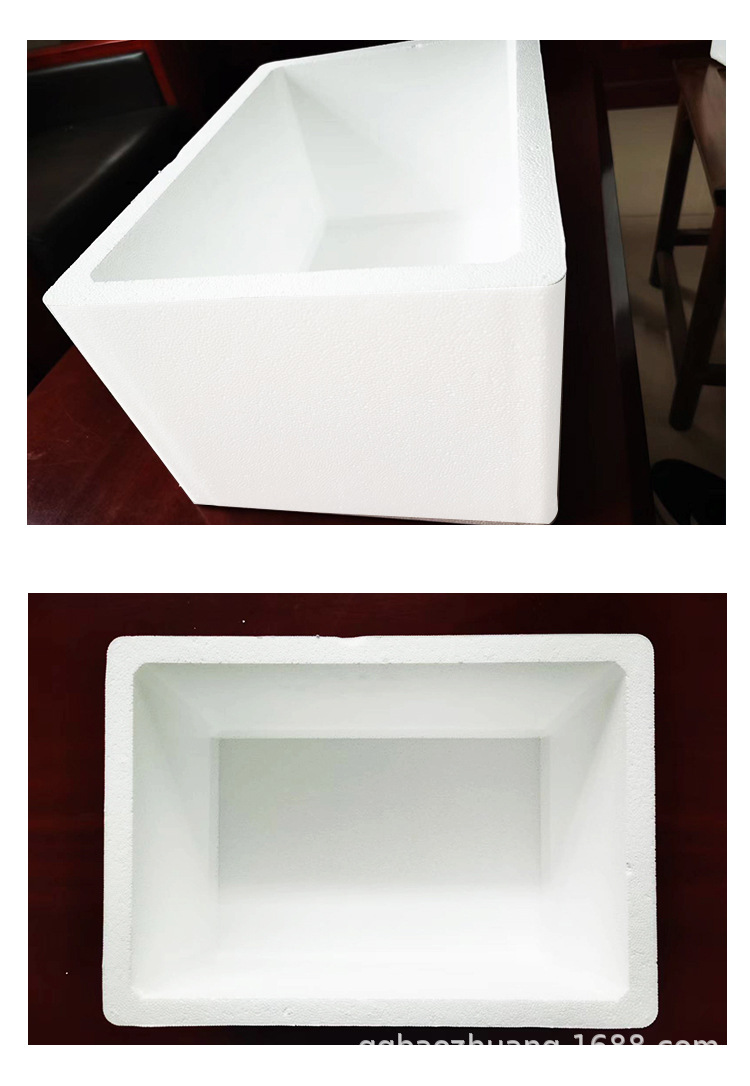泡沫箱: (45, 42, 566, 523), (103, 635, 657, 1029)
